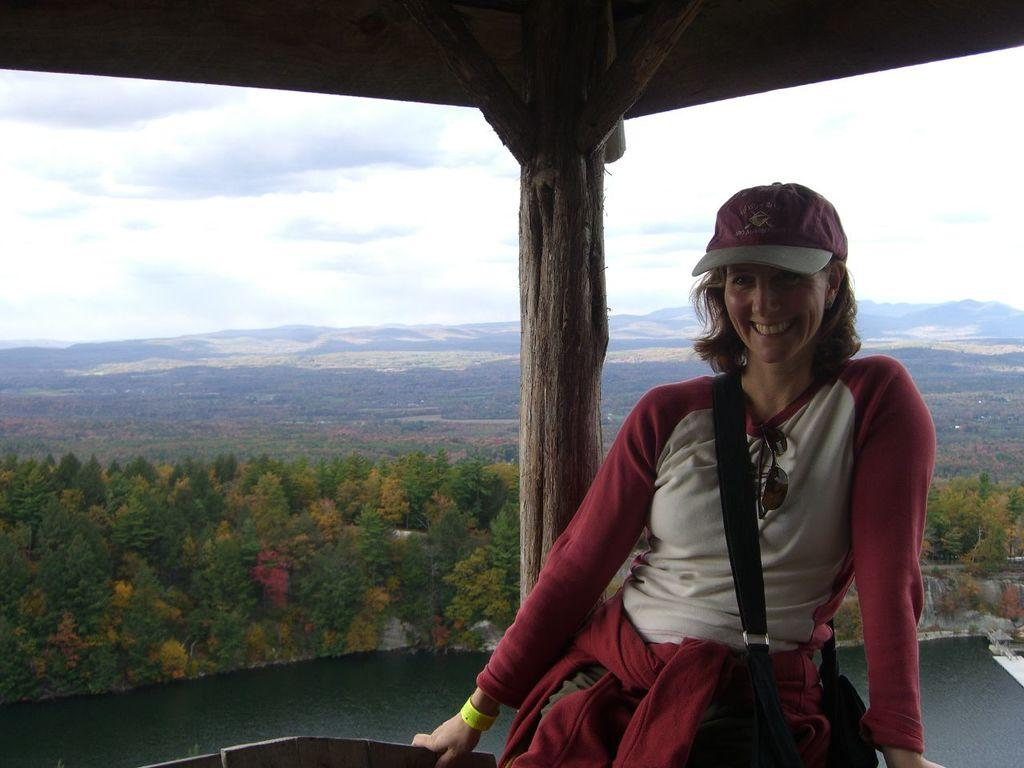Hat: (688, 181, 846, 277)
